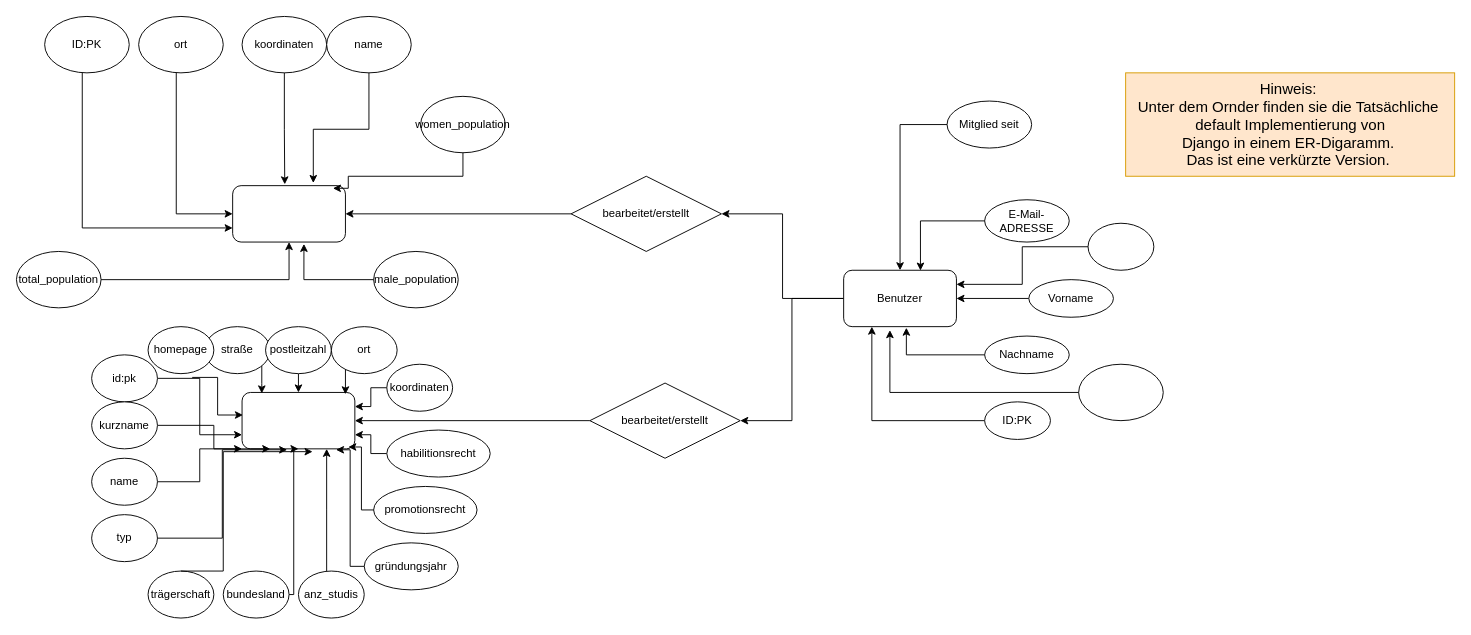
The diagram is 1471 pixels wide and 635 high, and some of its shapes have lost their labels. The shapes that lost their labels are listed below. From the top down, each one's centre as x and y in pixels, then its label:
At [288,213]: "Bevölkerung".
At [1120,246]: "username".
At [1120,392]: "password".
At [298,420]: "Hochschulen".
